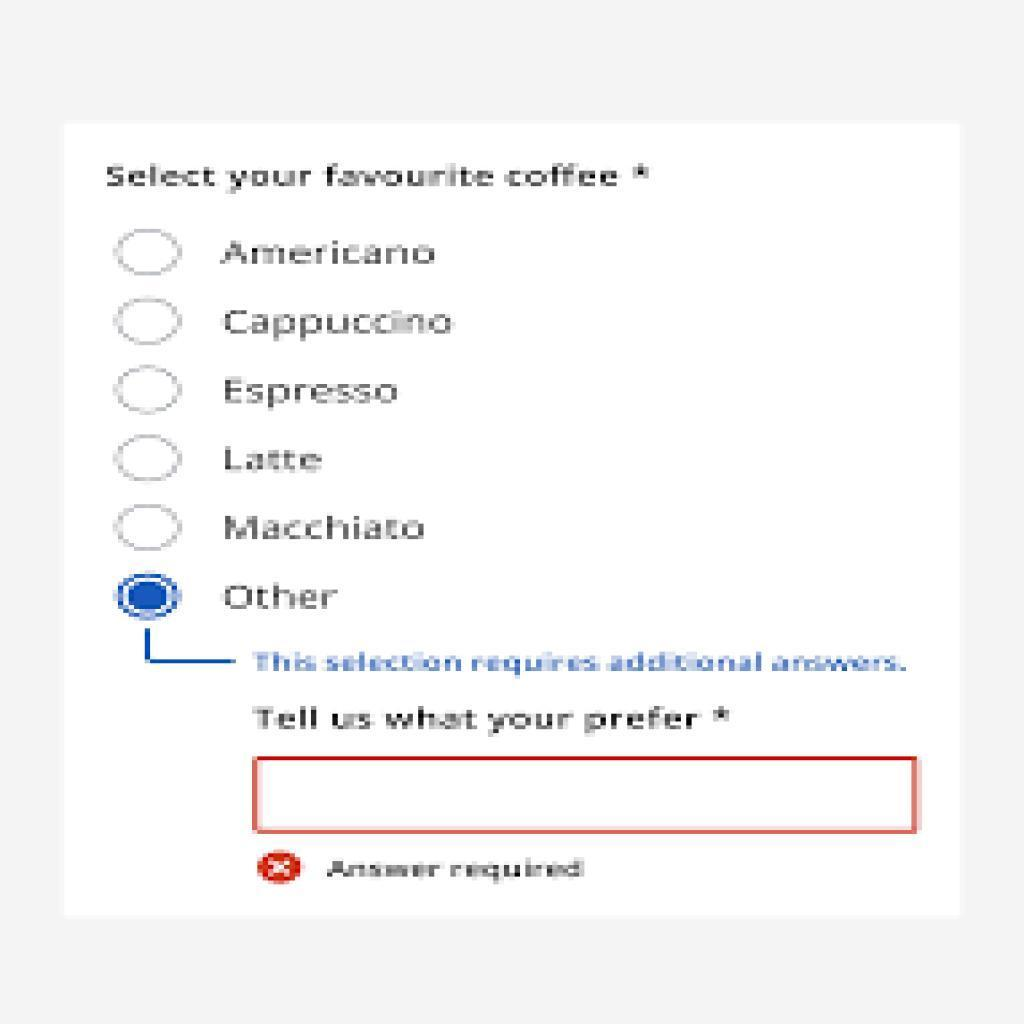input: (256, 757, 922, 836)
radio: (115, 567, 181, 629), (113, 225, 186, 280), (113, 293, 187, 346), (114, 362, 184, 418), (113, 502, 185, 555), (116, 430, 185, 485)
